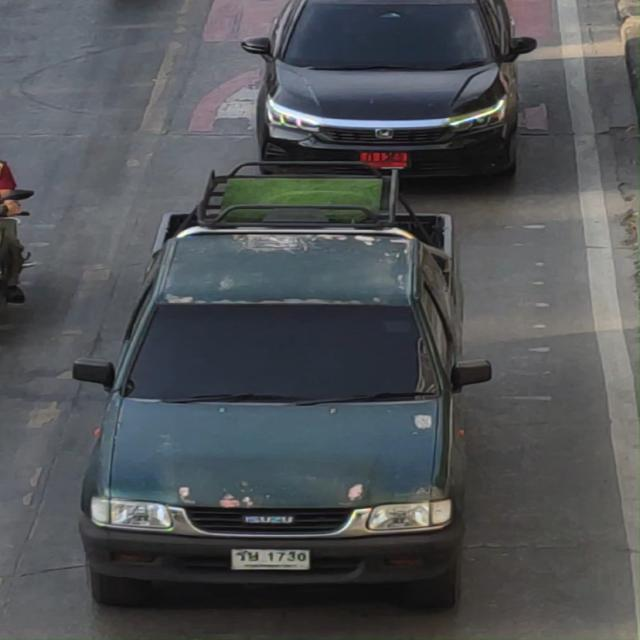car: (91, 178, 490, 605), (233, 0, 564, 183)
